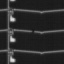dust: (31, 30, 35, 33)
